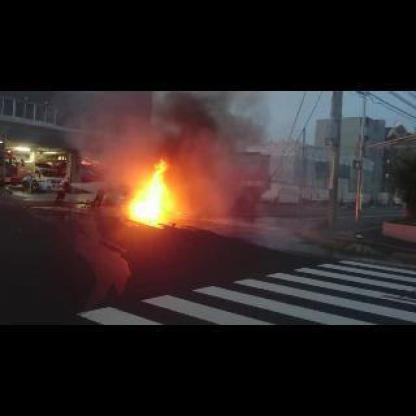fire: (116, 154, 182, 234)
